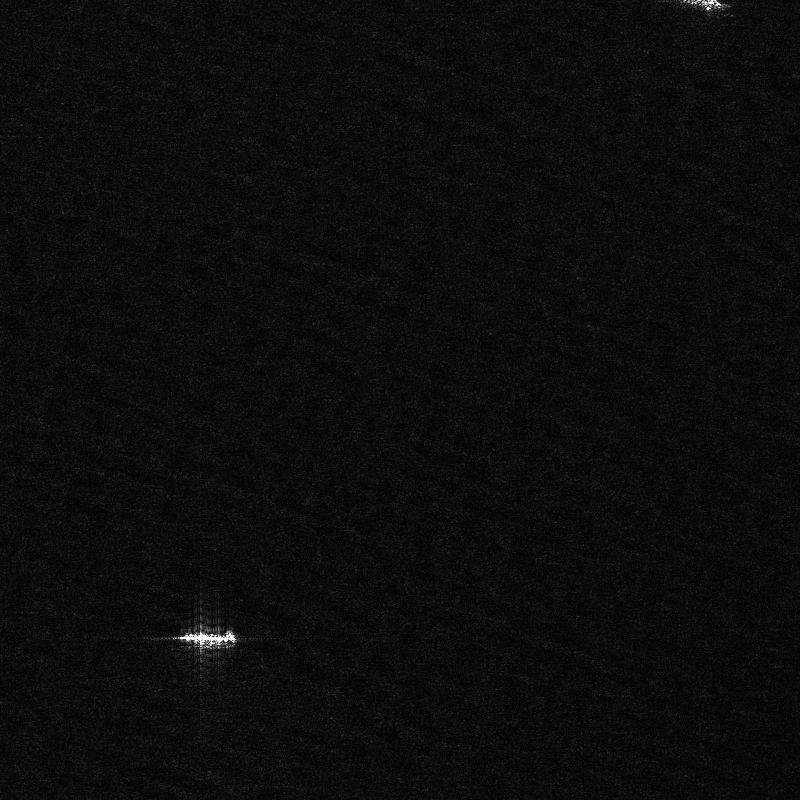ship: (177, 631, 236, 647)
